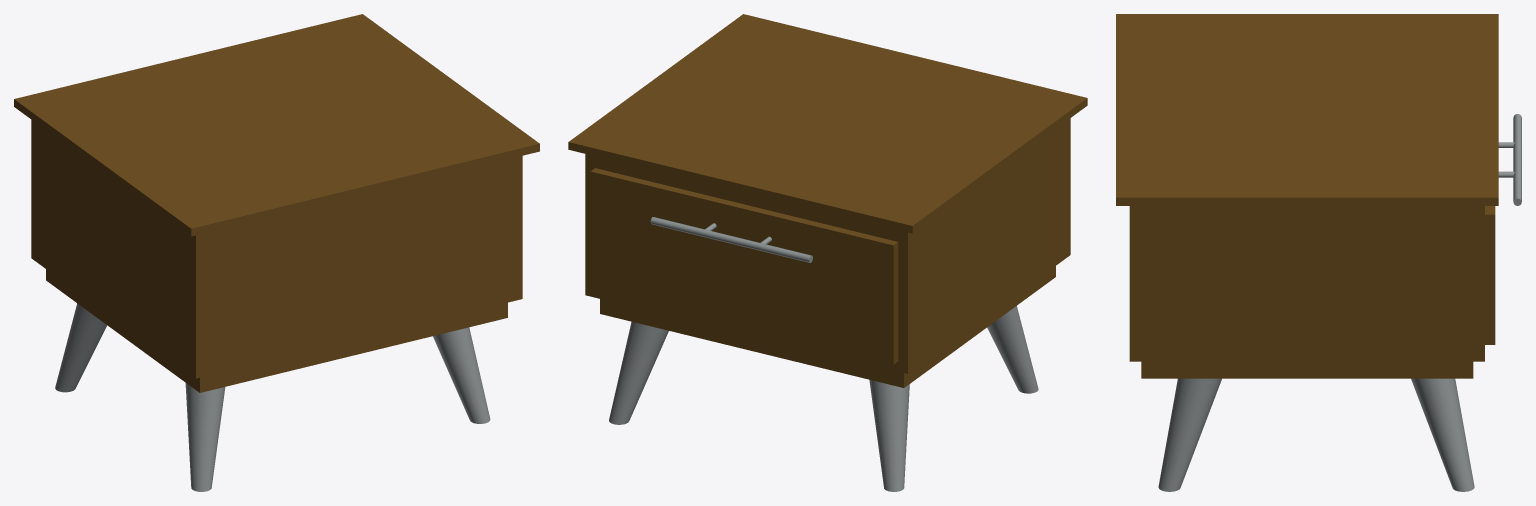
Rendered from bedsidetable.fbx.
3 renders of one model, left to right at view 1: azimuth 30°, elevation 25°; view 2: azimuth 150°, elevation 25°; view 3: azimuth 270°, elevation 25°, orthographic. The views are drawn at different scales.
Parts seen in each view (by area): view 1: bedsidetable; view 2: bedsidetable; view 3: bedsidetable.
Boxes of the visible parts, bbox=[...] form: bedsidetable: bbox=[14, 14, 539, 491]; bedsidetable: bbox=[568, 14, 1087, 491]; bedsidetable: bbox=[1116, 14, 1521, 491].
Size of the model in its own units: 61.86 by 57.78 by 48.42.
